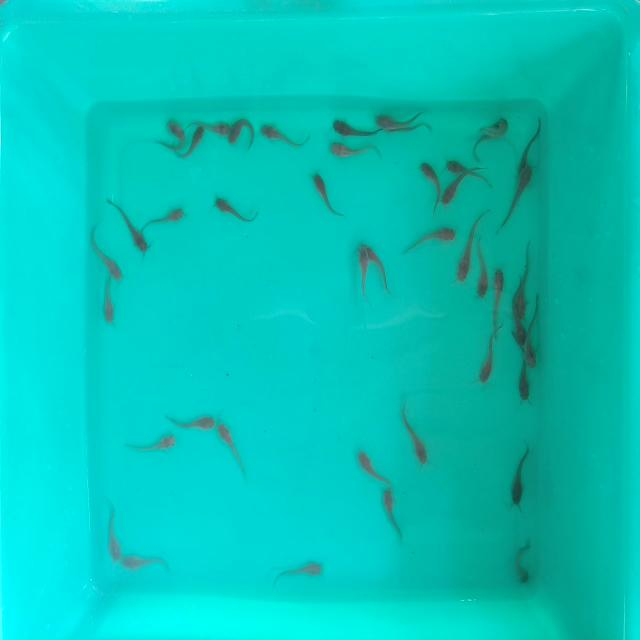lele: (497, 170, 539, 229), (106, 195, 148, 252), (351, 442, 396, 493), (398, 398, 433, 463), (216, 426, 252, 479), (309, 173, 345, 225), (90, 231, 126, 280), (369, 244, 398, 296), (509, 446, 534, 505), (212, 193, 258, 225), (379, 493, 407, 545), (418, 160, 443, 215), (259, 125, 308, 152), (103, 498, 123, 564), (516, 120, 544, 167), (274, 562, 324, 588), (441, 170, 473, 210), (456, 222, 477, 282), (163, 409, 218, 431), (411, 226, 459, 251), (516, 242, 534, 307), (478, 328, 497, 386), (333, 120, 385, 140), (492, 266, 508, 331), (126, 436, 178, 454), (143, 204, 185, 226), (355, 249, 372, 303), (514, 538, 533, 586), (158, 121, 185, 154), (186, 122, 210, 159), (330, 141, 379, 159), (121, 553, 171, 570), (98, 278, 116, 325), (447, 157, 493, 174), (478, 240, 490, 302), (228, 118, 256, 144), (527, 320, 541, 365), (516, 366, 532, 403), (470, 131, 490, 158), (512, 309, 527, 343), (372, 114, 401, 130), (489, 115, 509, 137), (401, 122, 433, 135), (206, 120, 230, 135)
